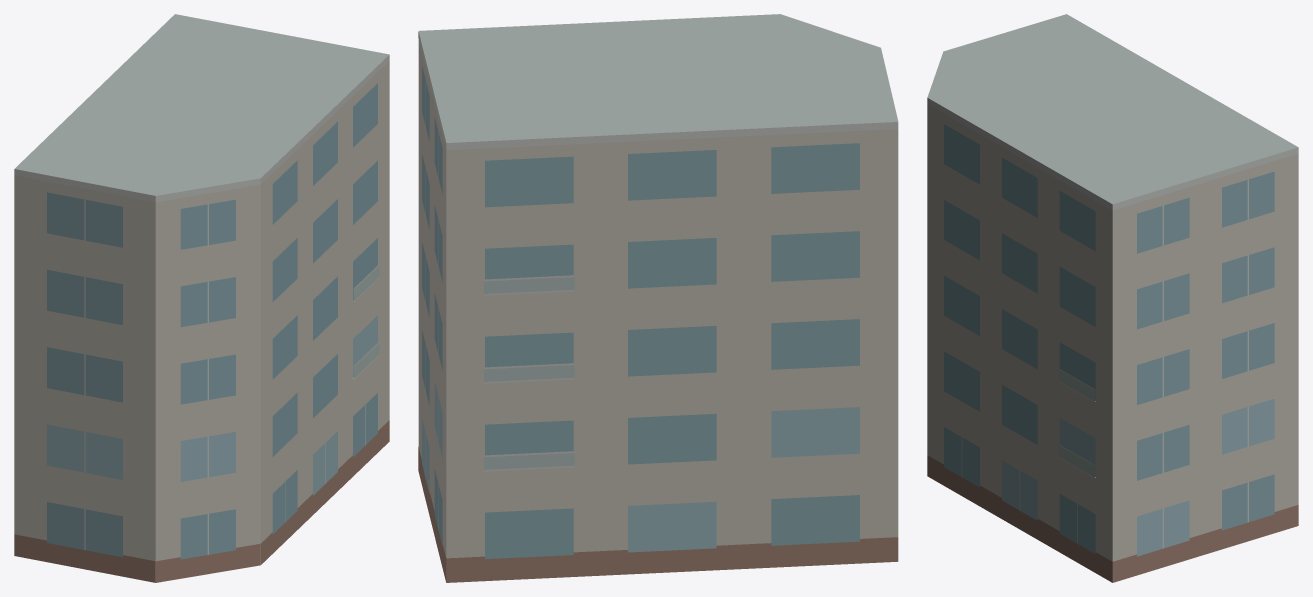
Rendered from survey-upis-32665174.glb.
3 views of the same model, side by side, from view 1: azimuth 30°, elevation 25°; view 2: azimuth 150°, elevation 25°; view 3: azimuth 270°, elevation 25° (orthographic). The views are drawn at different scales.
Visible parts, largest first — view 1: survey-upis-32665174.tmp; view 2: survey-upis-32665174.tmp; view 3: survey-upis-32665174.tmp.
Boxes of the visible parts, <box> form: survey-upis-32665174.tmp: <box>14,14,389,582</box>; survey-upis-32665174.tmp: <box>418,14,898,582</box>; survey-upis-32665174.tmp: <box>927,14,1298,582</box>.
Bounding box in the file's own units: 15.97 × 14.8 × 13.17.
